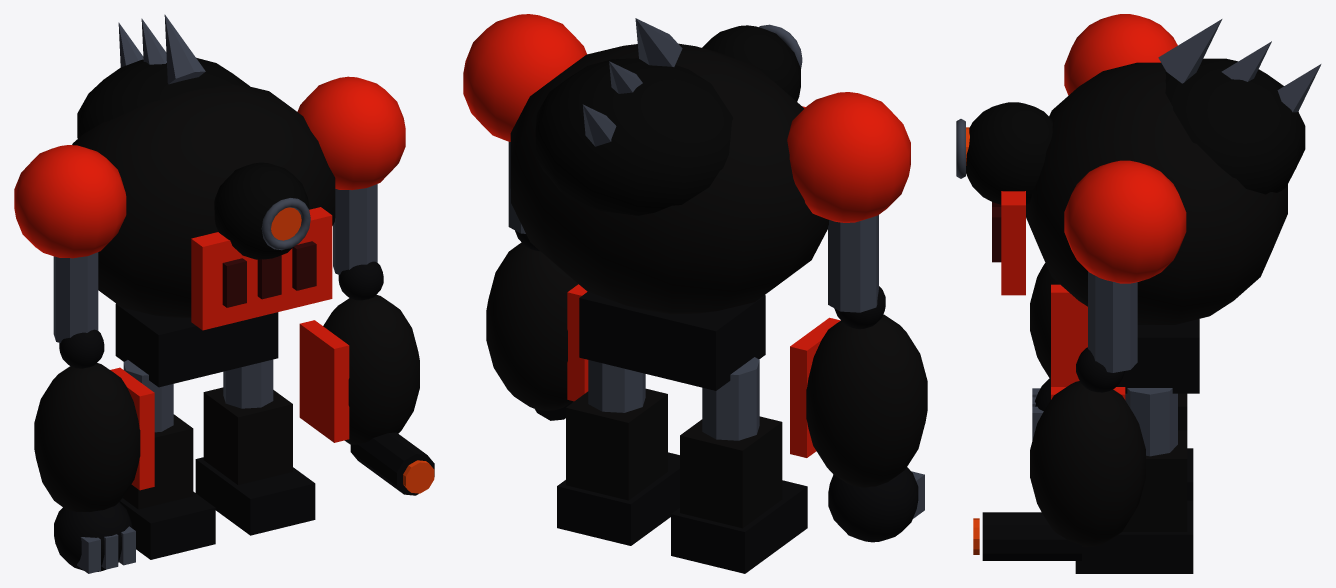
The model's file is Enemy_colossus.fbx.
3 views of the same model, side by side, from view 1: azimuth 30°, elevation 25°; view 2: azimuth 150°, elevation 25°; view 3: azimuth 270°, elevation 25° (orthographic). The views are drawn at different scales.
Parts seen in each view (by area): view 1: Enemy_colossus; view 2: Enemy_colossus; view 3: Enemy_colossus.
Part boxes in pixels (box(x1,y1,x2,y2)): Enemy_colossus: box(14, 14, 434, 573); Enemy_colossus: box(463, 14, 927, 573); Enemy_colossus: box(956, 14, 1321, 573).
Bounding box in the file's own units: 0.752 × 0.9119 × 0.5899.
